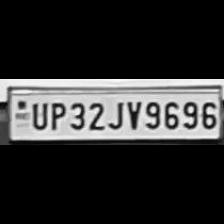2: (84, 97, 106, 131)
3: (66, 98, 86, 130)
6: (160, 97, 180, 130), (197, 97, 217, 129)
9: (141, 97, 161, 130), (180, 97, 198, 129)
J: (106, 97, 124, 130)
P: (47, 100, 66, 130)
U: (28, 98, 48, 130)
V: (122, 97, 142, 130)
